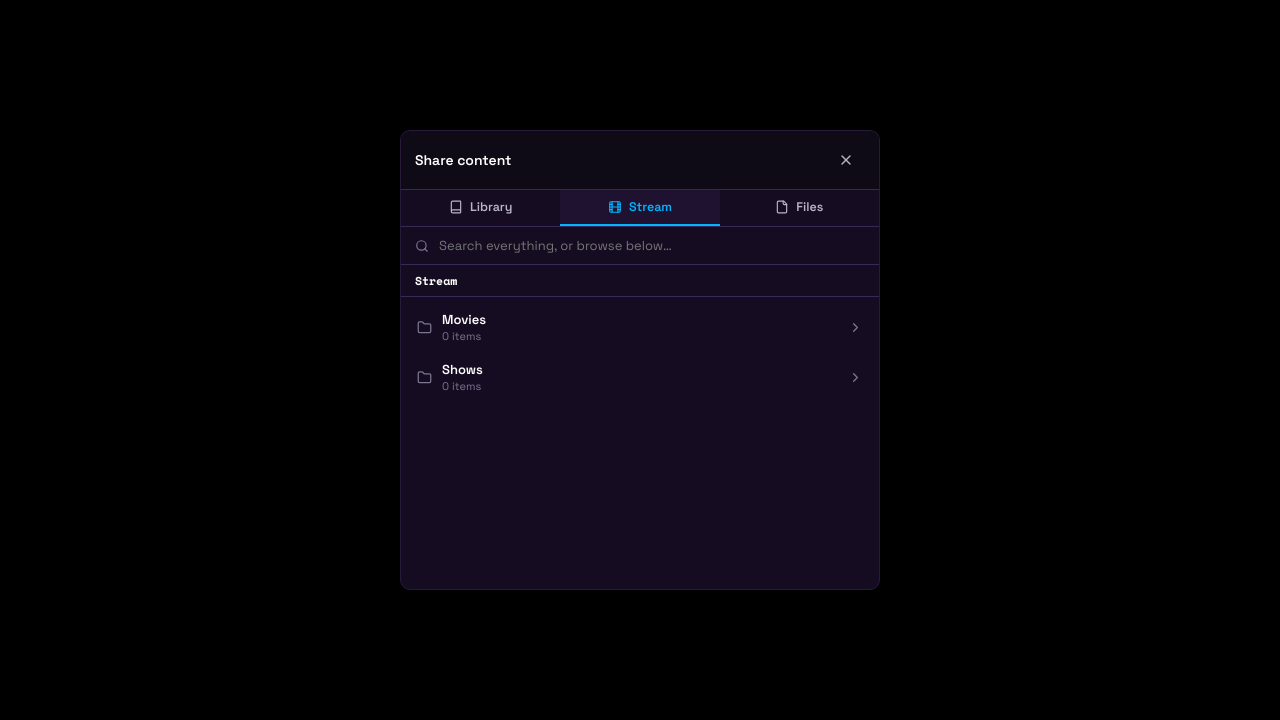
SharePicker › offers folders as navigation, never as something to share
Step 1. Click the button "Shows 0 items" → (462, 370), box [407, 353, 873, 401]
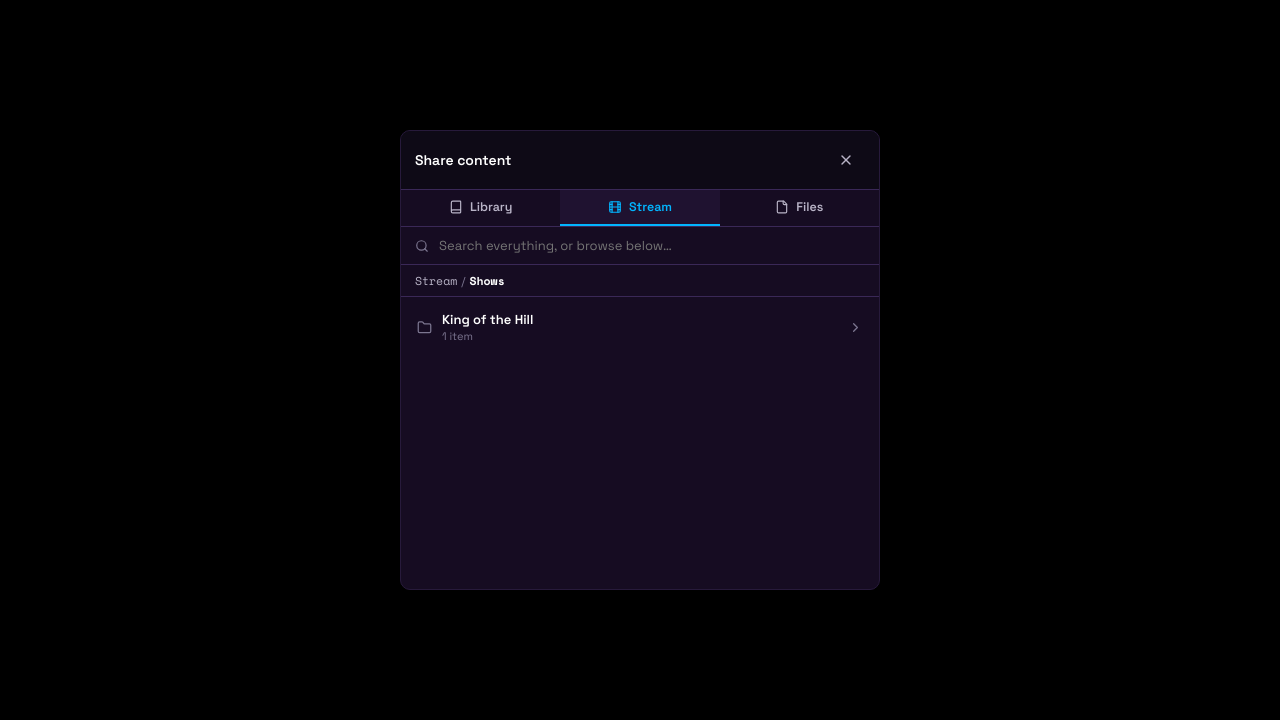
Note: The series is a folder: clicking it descends rather than staging a share.
Step 2. Click the button "King of the Hill 1 item" → (488, 320), box [407, 303, 873, 351]
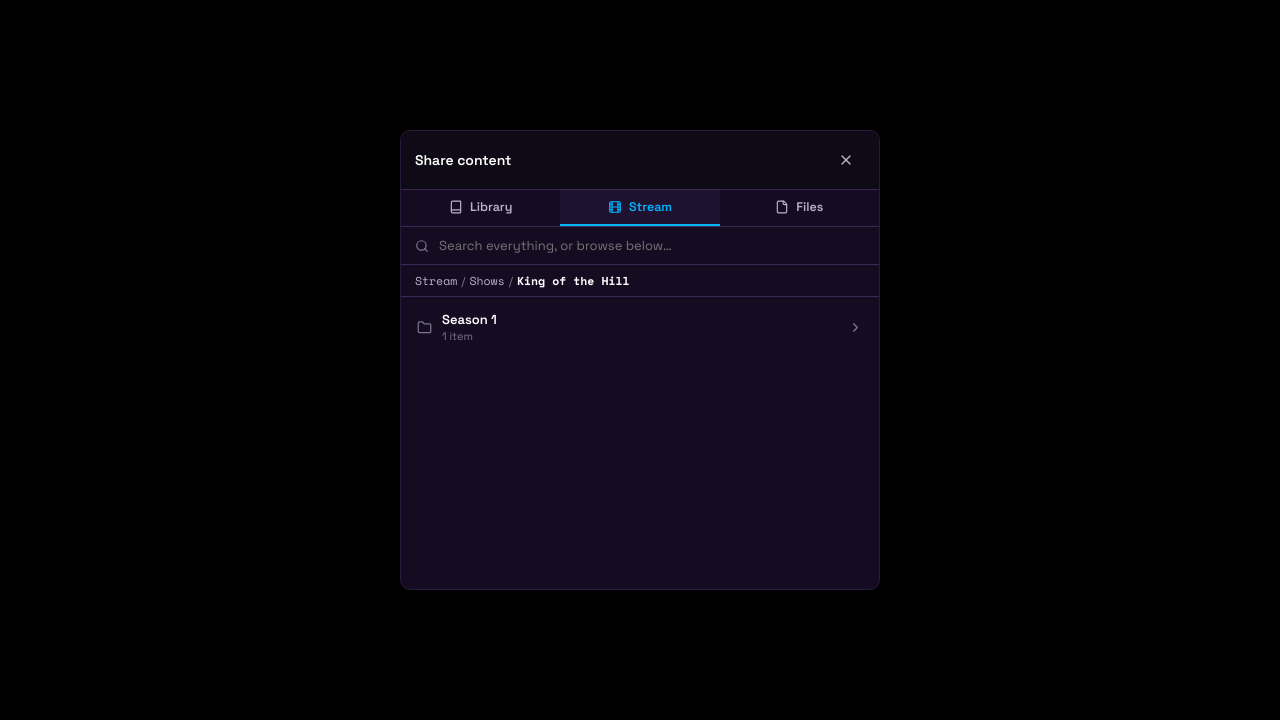
Expected: the text "Season 1" is shown, [442, 311, 497, 328]
